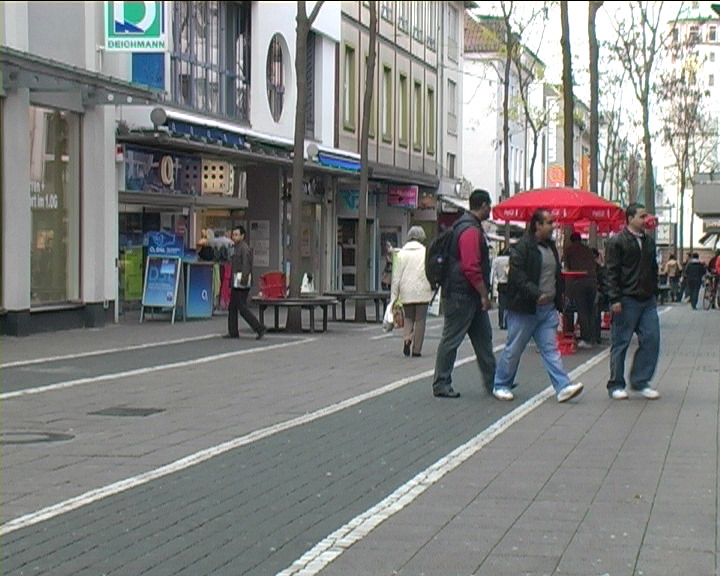deflection: (439, 187, 502, 255)
undeflect: (511, 209, 567, 268)
